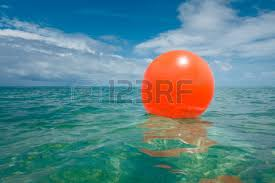buoy: (143, 50, 214, 119)
